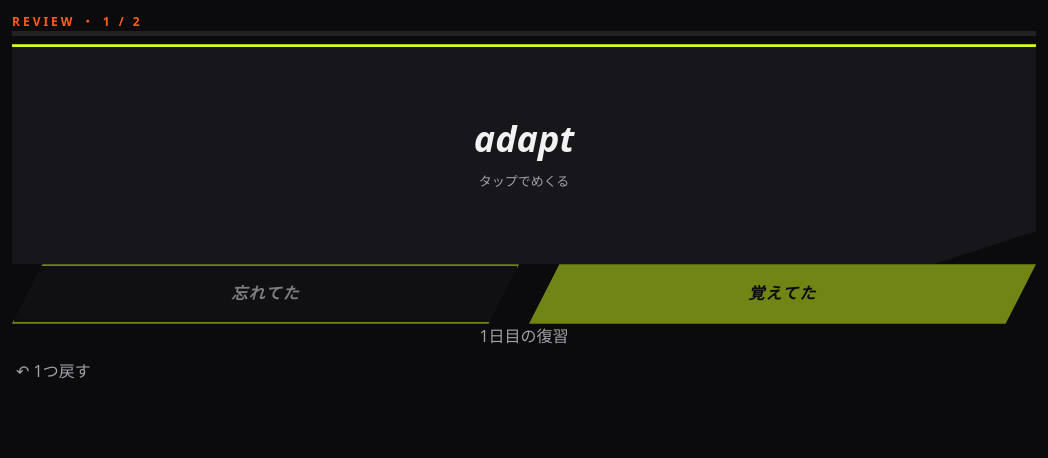
Test case: Review › 送信済みなら /api/reviews/undo を呼び、409 なら『取り消せませんでした』
Step 1. Click the button "adapt タップでめくる" → x=73, y=154, box [12,44,1036,264]
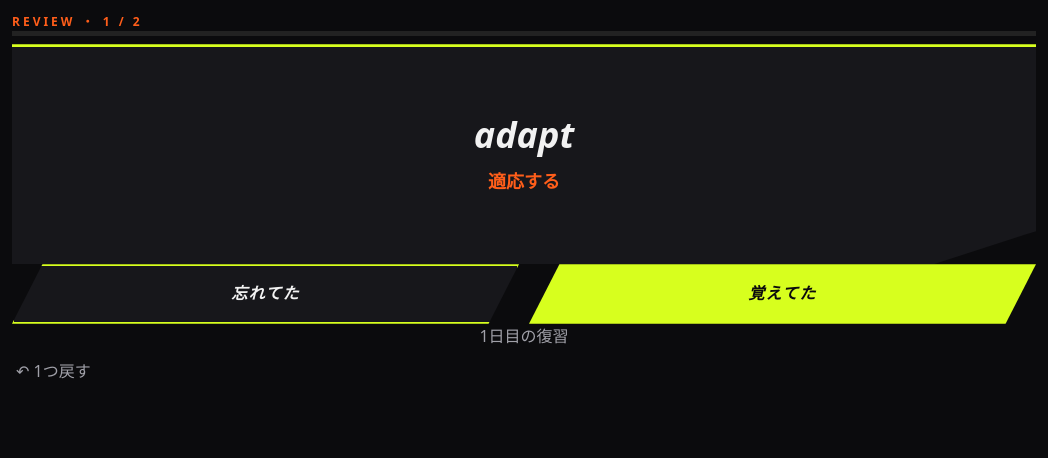
Step 2. Click the button "覚えてた" → x=782, y=294, box [529,264,1036,324]
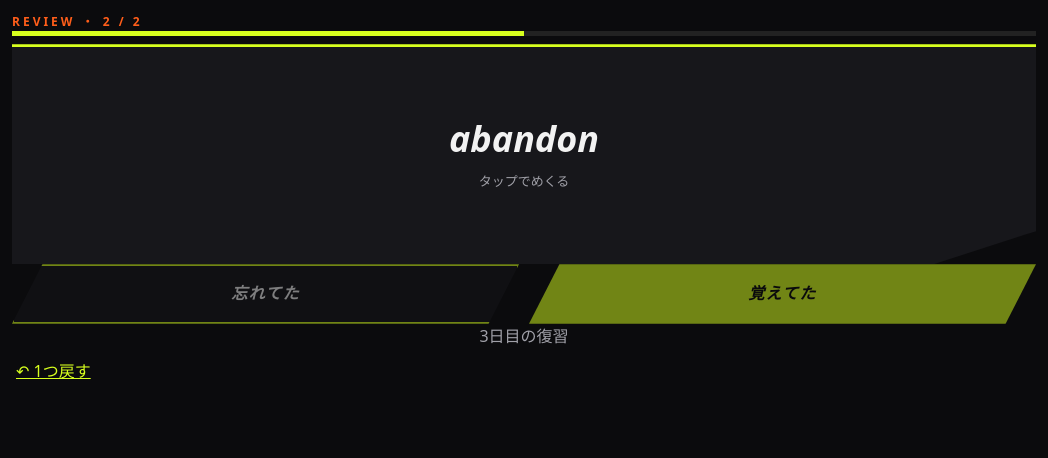
Expected: the text "REVIEW ・ 2 / 2" is shown, [12,13,143,30]
Step 3. Click the button "↶ 1つ戻す" → x=53, y=372, box [12,349,95,395]
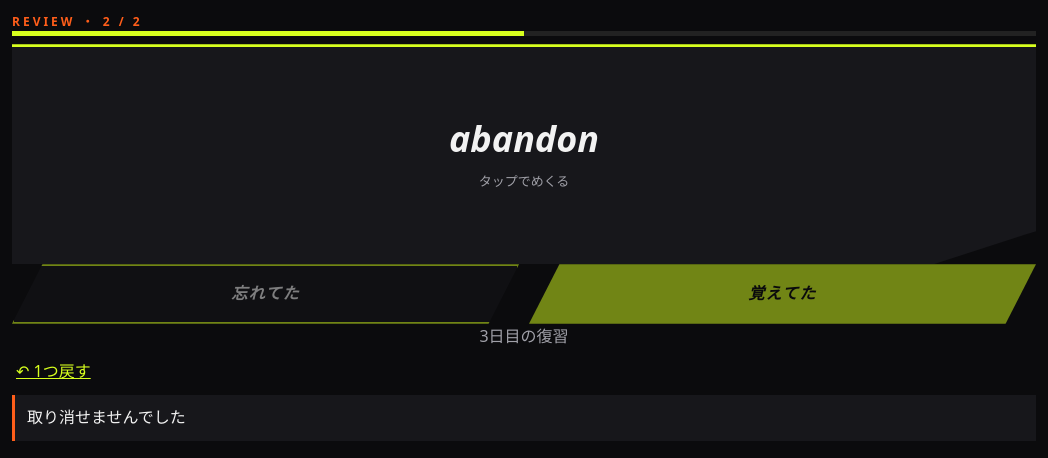
Expected: the text "REVIEW ・ 2 / 2" is shown, [12,13,143,30]
Expected: the text "取り消せませんでした" is shown, [12,395,1036,441]
Step 4. Click the button "↶ 1つ戻す" → x=53, y=372, box [12,349,95,395]
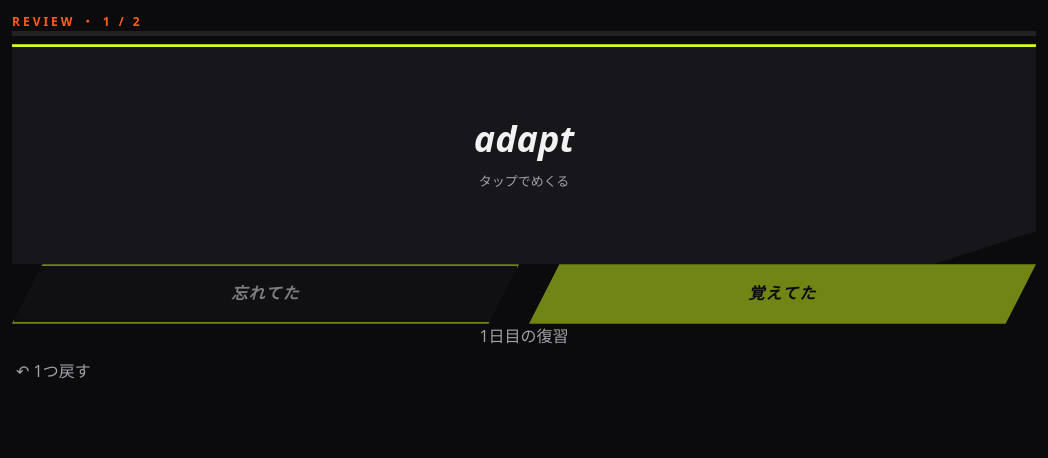
Expected: the text "REVIEW ・ 1 / 2" is shown, [12,13,143,30]
